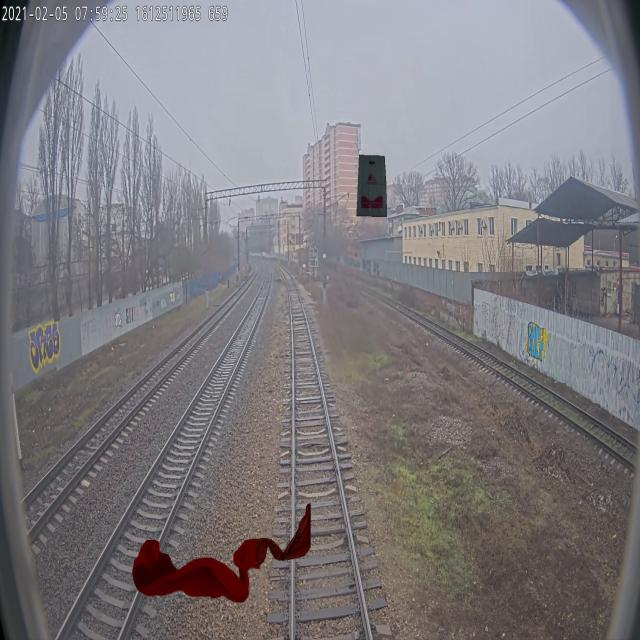floating object: (132, 538, 260, 602), (255, 502, 311, 566)
plastic bag: (356, 154, 387, 218)
